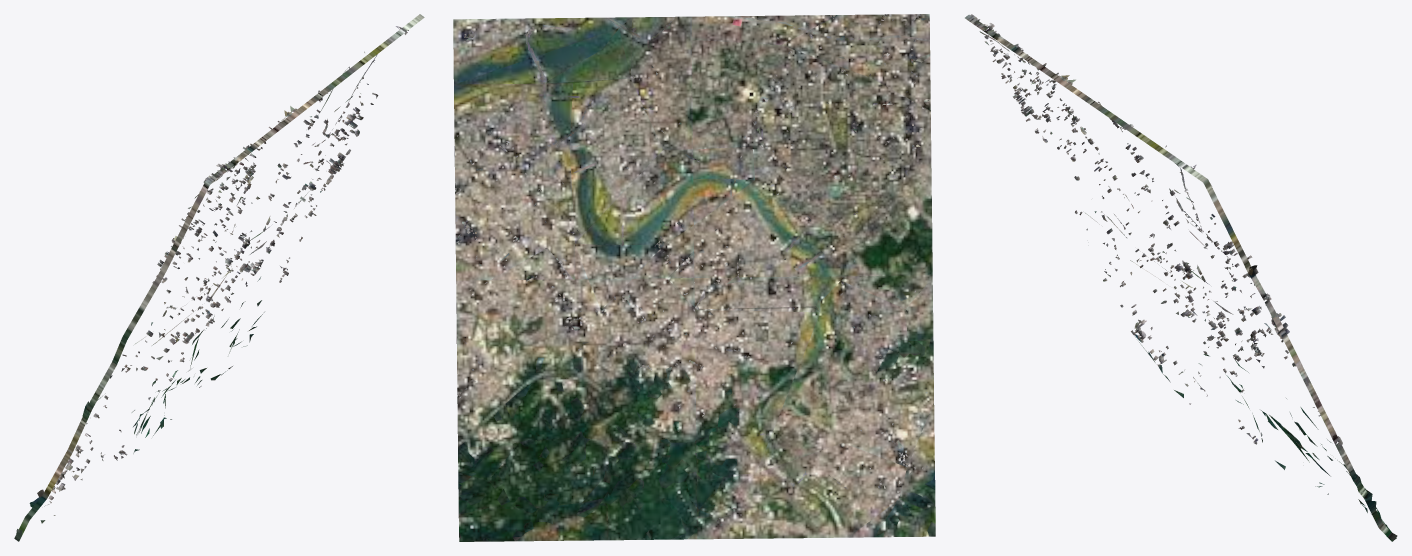
3 renders of one model, left to right at view 1: azimuth 30°, elevation 25°; view 2: azimuth 150°, elevation 25°; view 3: azimuth 270°, elevation 25°, orthographic. The views are drawn at different scales.
Bounding box in the file's own units: 9898 × 8950 × 8434.
1 material, 1 textured.
